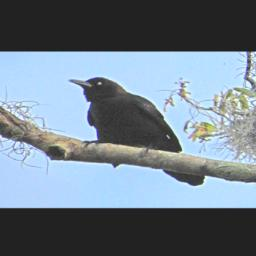Crow: (59, 76, 215, 187)
